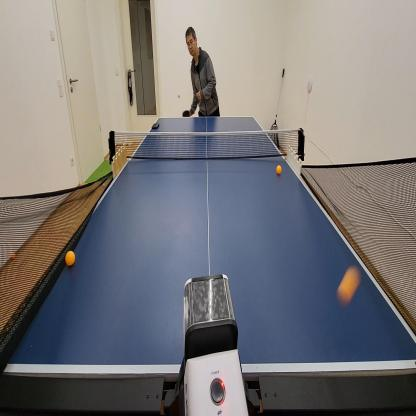Ball: (335, 264, 361, 307), (64, 249, 76, 268), (276, 164, 282, 175), (11, 251, 16, 261), (102, 182, 106, 188), (177, 93, 181, 99)
